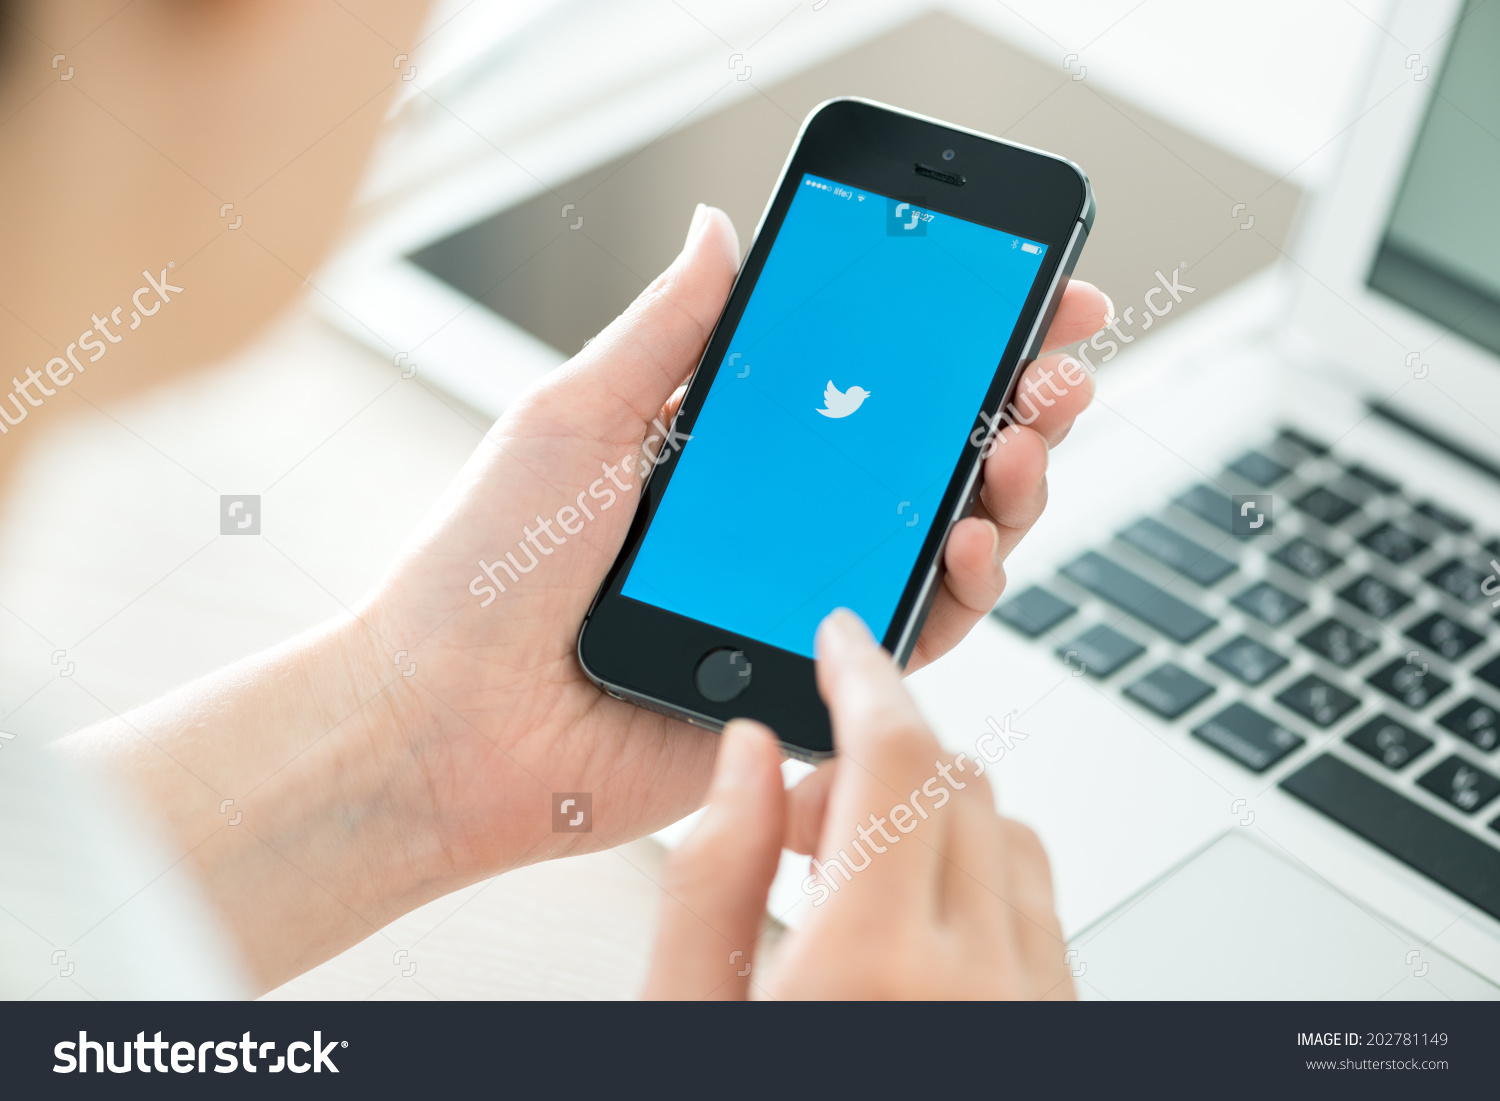smartphone: (576, 96, 1097, 761)
